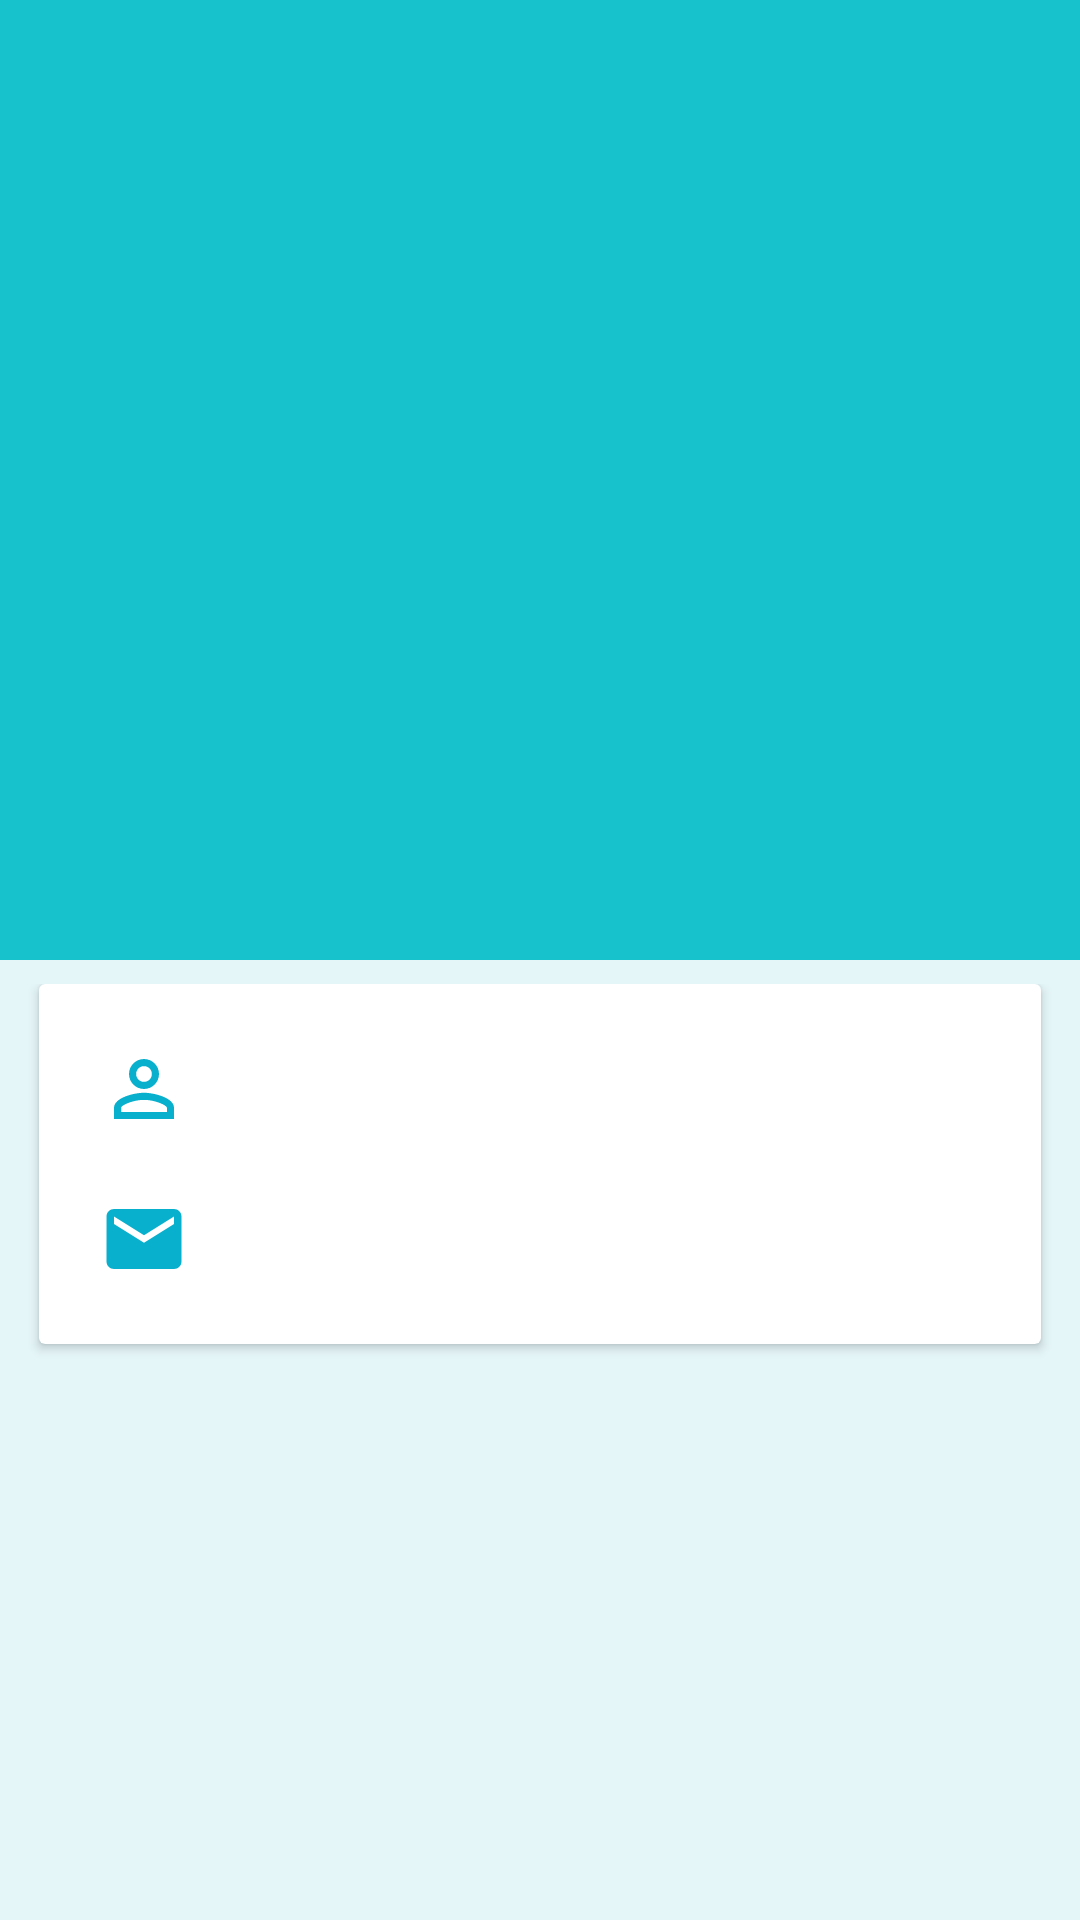

Icons on this 1080×1920 Android screen, each with the point to tap as (x=x, y=y):
email: (x=144, y=1239)
person: (x=144, y=1089)
